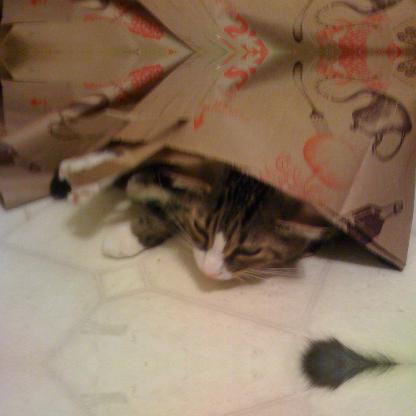Cat: (102, 162, 328, 280)
